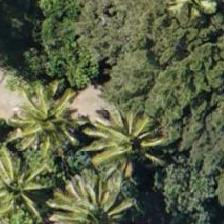coconut_tree: (86, 100, 176, 190), (3, 78, 93, 168), (45, 164, 135, 223), (0, 143, 63, 223)
